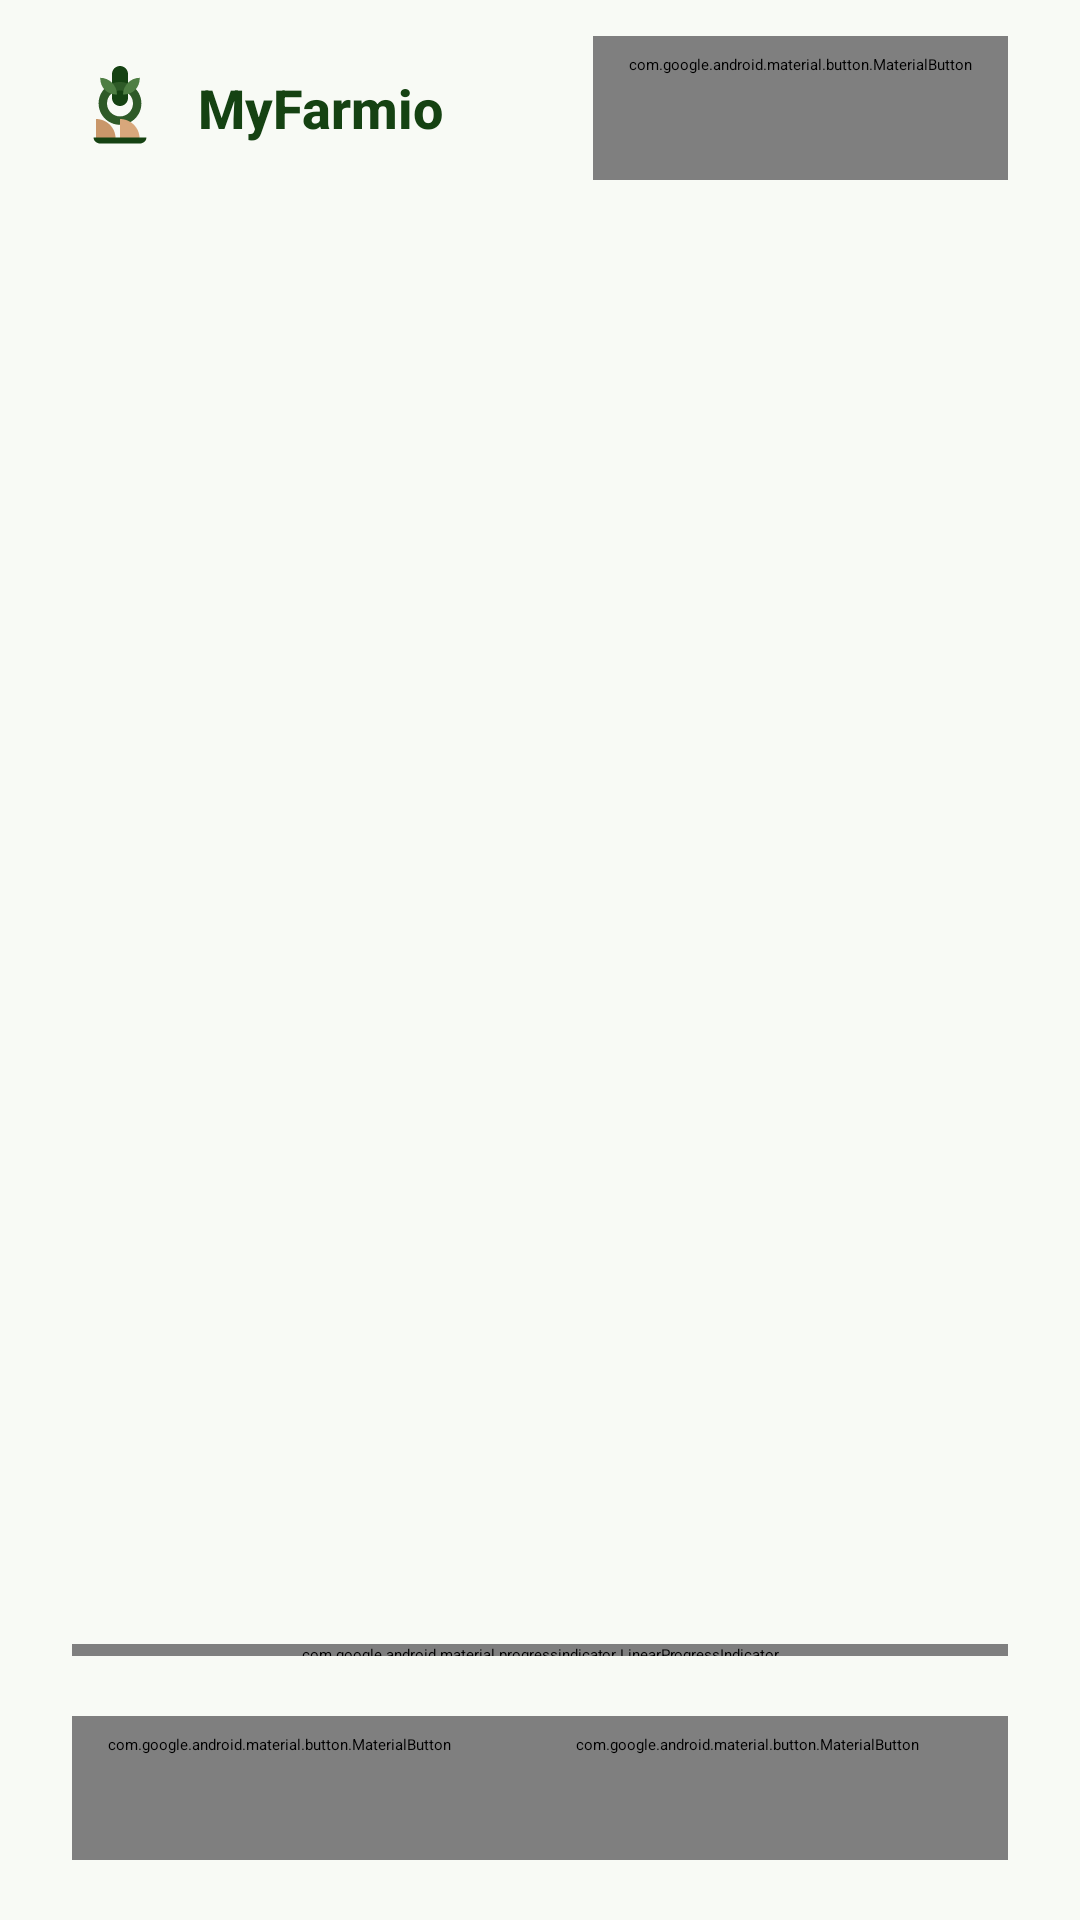

Icons on this 1080 x 1920 Android screen, each with its box as {"x1": x1, "y1": y1, "x2": x2, "y2": y2}:
brand mark: {"x1": 93, "y1": 66, "x2": 147, "y2": 144}
